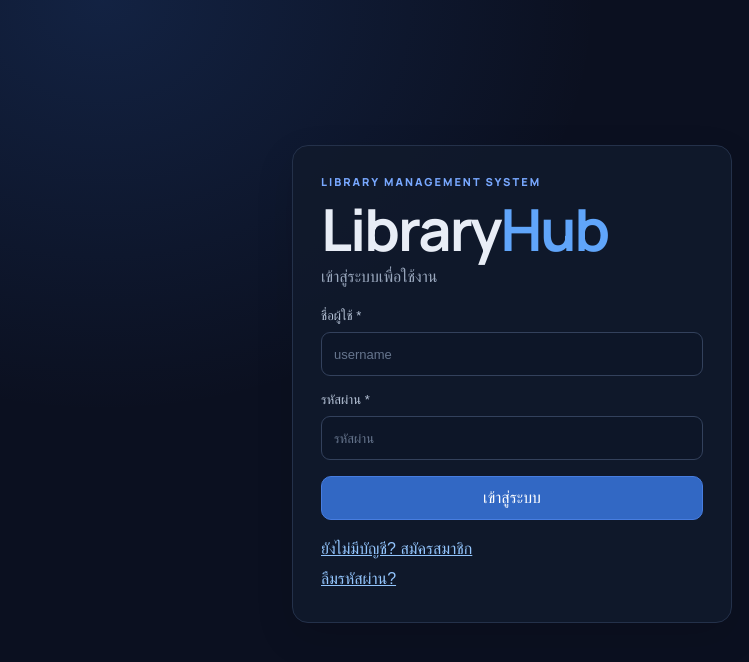
it: Login › รหัสผ่านผิด: แสดงข้อความจากเซิร์ฟเวอร์
Type "x" into the field with placeholder "username".
click(512, 354); type("x")  # box [321, 332, 703, 376]
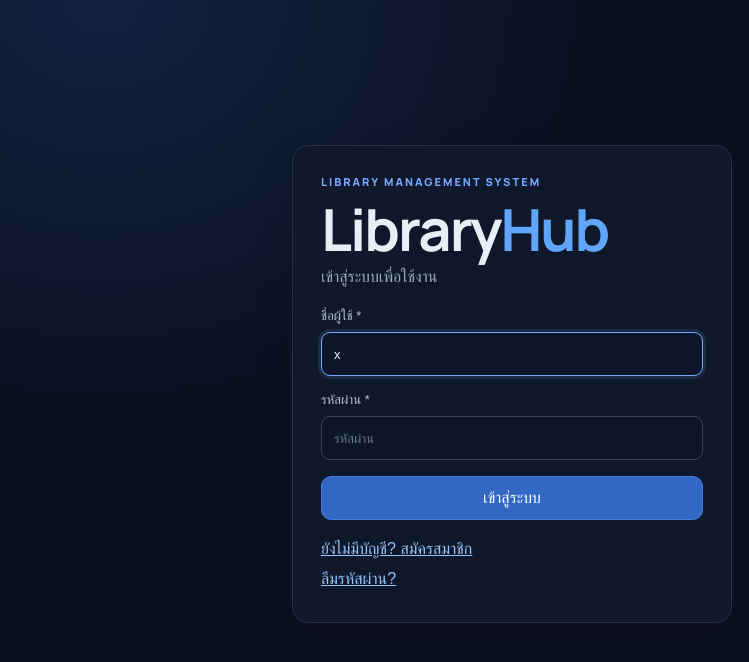
Type "y" into the password field with placeholder "รหัสผ่าน".
click(512, 438); type("y")  # box [321, 416, 703, 460]
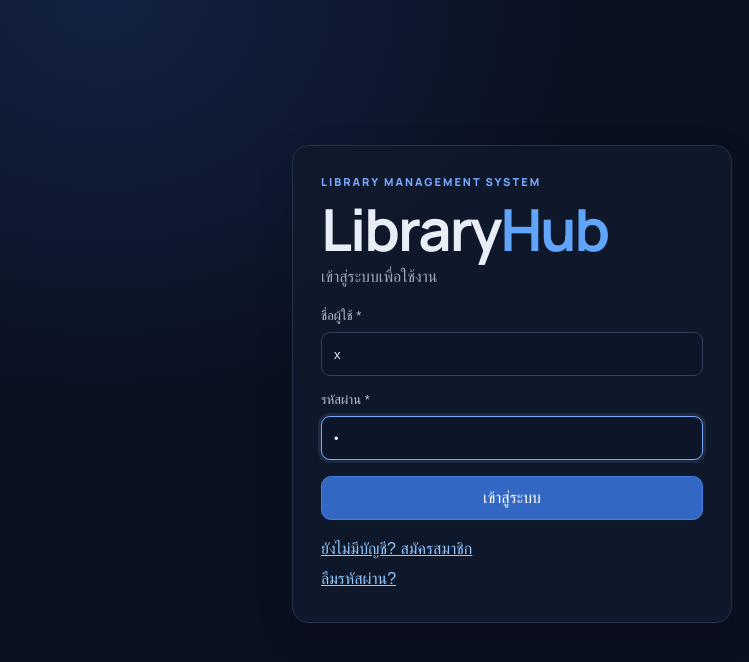
Click the button "เข้าสู่ระบบ".
click(512, 498)  # box [321, 476, 703, 520]
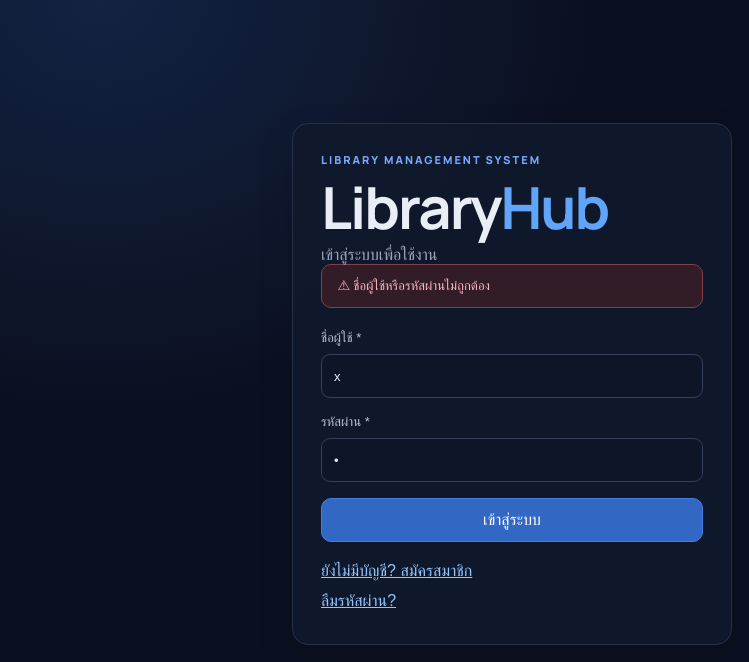
Expected: the message shows "ชื่อผู้ใช้หรือรหัสผ่านไม่ถูกต้อง", [353, 278, 490, 293]
